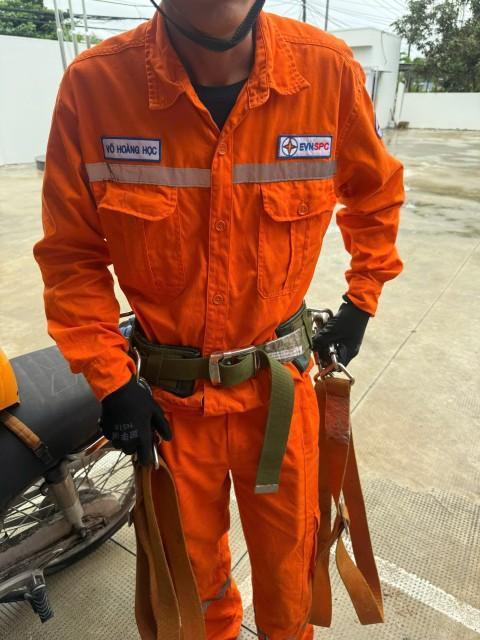harness: (132, 306, 323, 406)
shoes: (98, 367, 167, 464), (309, 304, 387, 379)
